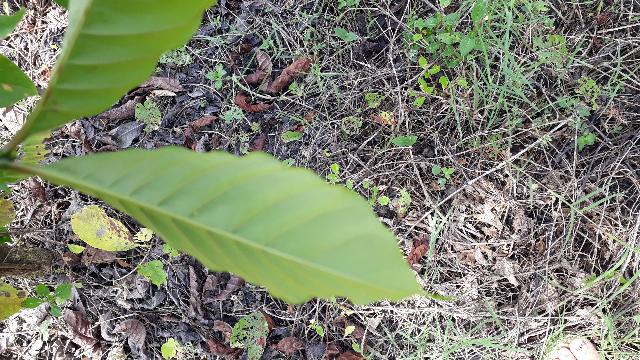healthy: (42, 146, 427, 307)
